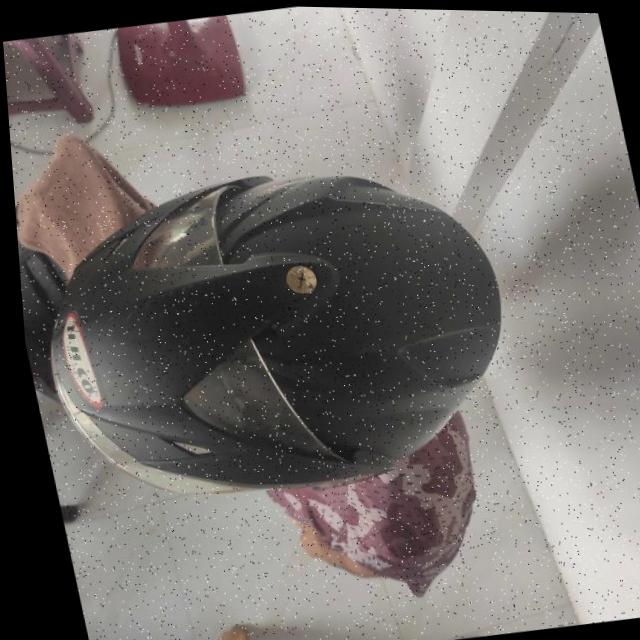helmet: (8, 138, 534, 525)
